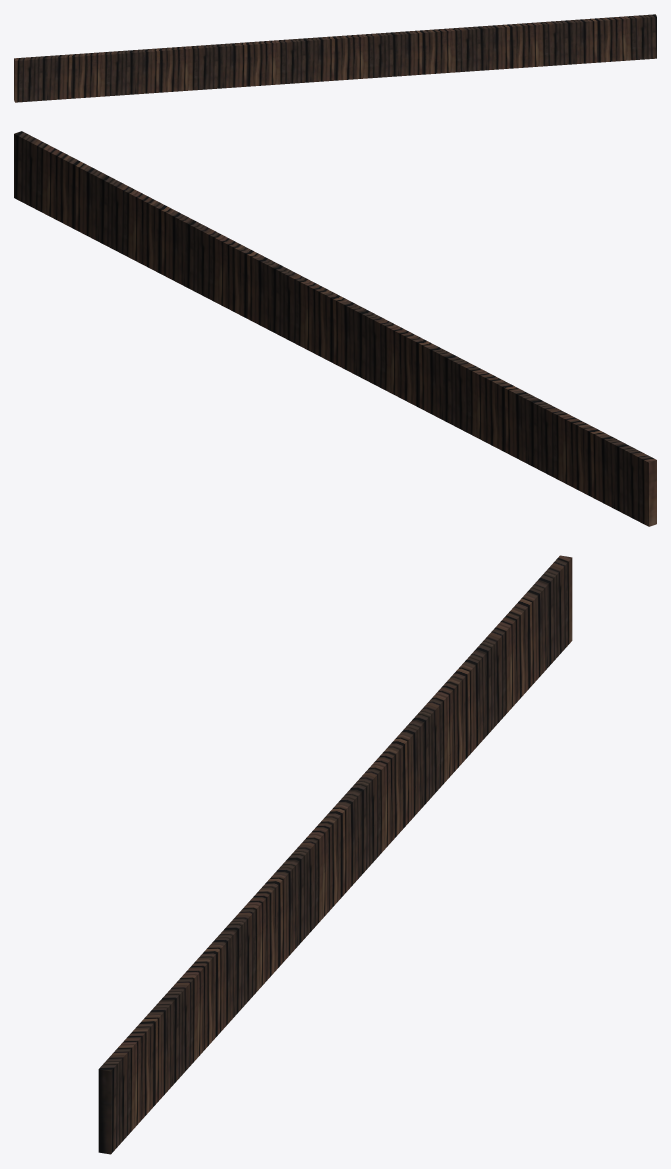
Rendered from H1_F1_WoodenBlock_3.gltf.
The picture shows the model from 3 angles, top to bottom: view 1: azimuth 30°, elevation 25°; view 2: azimuth 150°, elevation 25°; view 3: azimuth 270°, elevation 25°; orthographic projection. The views are drawn at different scales.
Parts seen in each view (by area): view 1: H1_F1_WoodenBlock_3; view 2: H1_F1_WoodenBlock_3; view 3: H1_F1_WoodenBlock_3.
Part boxes in pixels (left/top/right/bottom): H1_F1_WoodenBlock_3: left=14, top=14, right=656, bottom=102; H1_F1_WoodenBlock_3: left=14, top=131, right=656, bottom=526; H1_F1_WoodenBlock_3: left=98, top=555, right=572, bottom=1154.
Bounding box in the file's own units: 35.61 × 2.68 × 13.83.
Materials: 1 (1 with a texture image).
